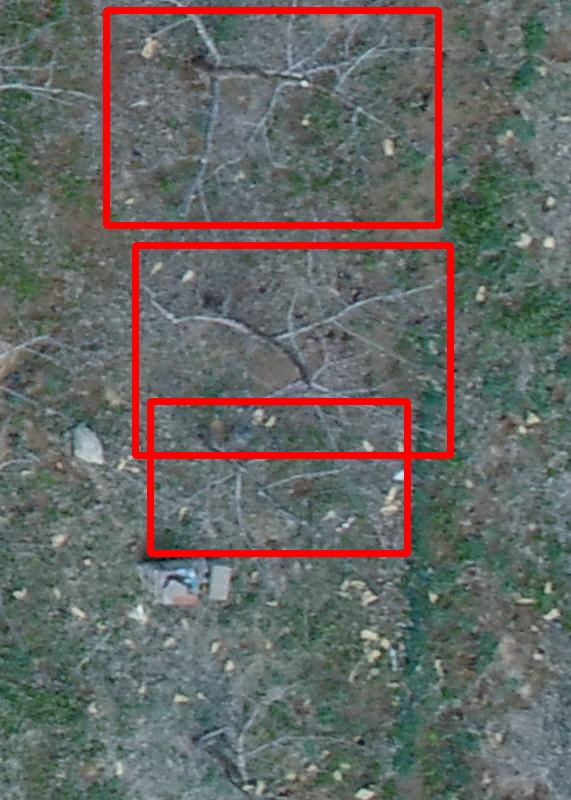apple: (106, 10, 438, 225), (135, 245, 450, 455), (150, 401, 407, 553)
